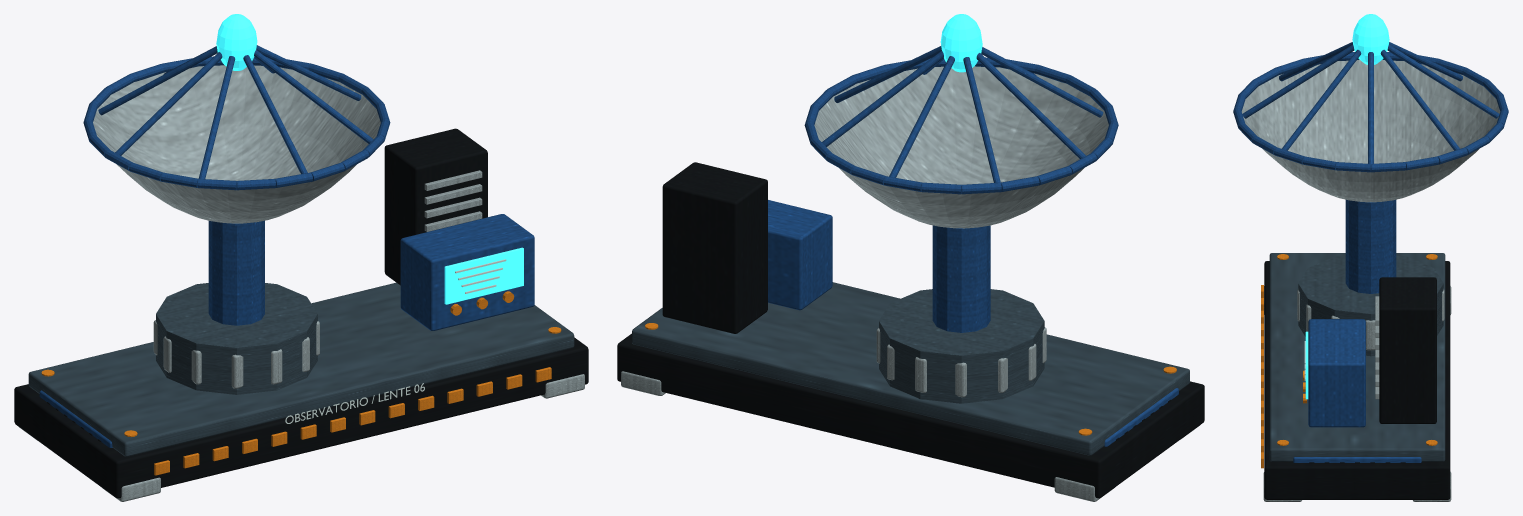
File: observatorio-planetario.glb
The picture shows the model from 3 angles, left to right: view 1: azimuth 30°, elevation 25°; view 2: azimuth 150°, elevation 25°; view 3: azimuth 270°, elevation 25°; orthographic projection. The views are drawn at different scales.
Visible parts, largest first — view 1: Deck aparafusado.001, Sapata de nivelamento.004, Chassi reforçado.001, Painel de inspeção lateral.002, Sensor focal.001, Parafuso de ancoragem.004, OBSERVATORIO / LENTE 06.001; view 2: Deck aparafusado.001, Chassi reforçado.001, Sapata de nivelamento.004, Painel de inspeção lateral.002, Sensor focal.001; view 3: Sapata de nivelamento.004, Painel de inspeção lateral.002, Deck aparafusado.001, Chassi reforçado.001, Sensor focal.001, Parafuso de ancoragem.004.
Part boxes in pixels (x1=…): Deck aparafusado.001: x1=28, y1=282, x2=574, y2=456; Sapata de nivelamento.004: x1=19, y1=65, x2=584, y2=501; Chassi reforçado.001: x1=14, y1=128, x2=588, y2=498; Painel de inspeção lateral.002: x1=39, y1=45, x2=534, y2=447; Sensor focal.001: x1=216, y1=14, x2=523, y2=304; Parafuso de ancoragem.004: x1=41, y1=291, x2=561, y2=475; OBSERVATORIO / LENTE 06.001: x1=285, y1=259, x2=506, y2=423; Deck aparafusado.001: x1=632, y1=282, x2=1189, y2=455; Chassi reforçado.001: x1=617, y1=162, x2=1204, y2=498; Sapata de nivelamento.004: x1=621, y1=66, x2=1199, y2=501; Painel de inspeção lateral.002: x1=768, y1=46, x2=1178, y2=446; Sensor focal.001: x1=940, y1=14, x2=982, y2=72; Sapata de nivelamento.004: x1=1241, y1=60, x2=1500, y2=501; Painel de inspeção lateral.002: x1=1233, y1=42, x2=1508, y2=462; Deck aparafusado.001: x1=1269, y1=253, x2=1445, y2=461; Chassi reforçado.001: x1=1264, y1=261, x2=1450, y2=499; Sensor focal.001: x1=1305, y1=14, x2=1389, y2=399; Parafuso de ancoragem.004: x1=1261, y1=254, x2=1437, y2=468.
Bounding box in the file's own units: 2.9 × 2.36 × 1.63.
7 materials, 5 textured.
